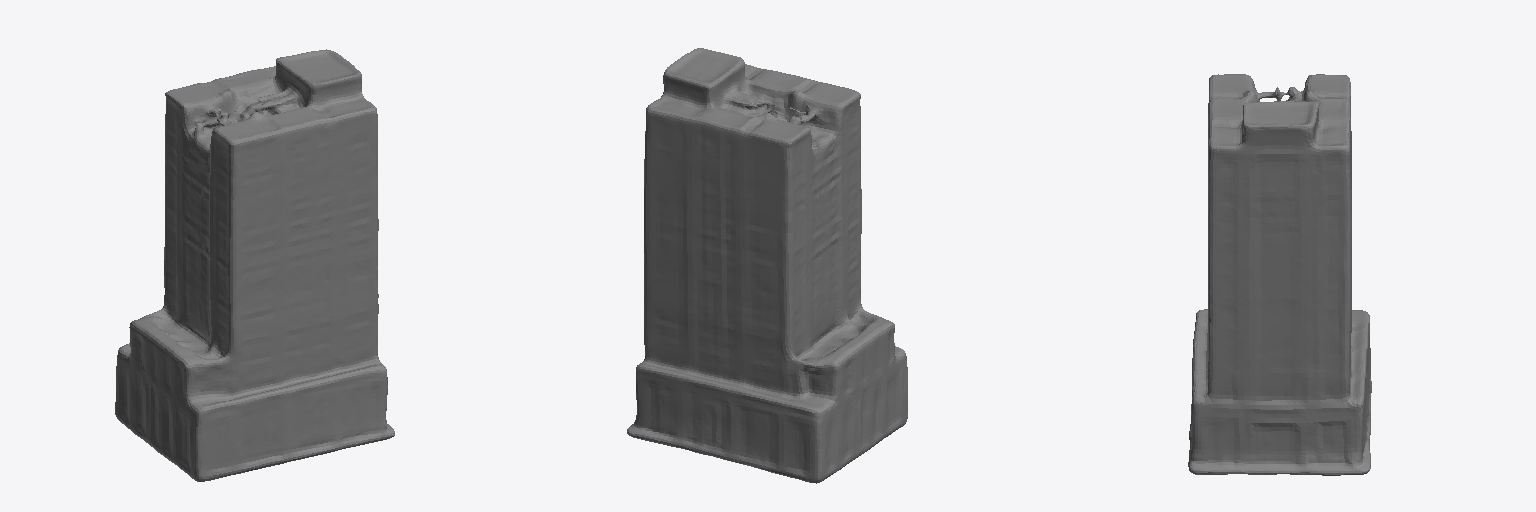
The model's file is edificio2.obj.
3 renders of one model, left to right at view 1: azimuth 30°, elevation 25°; view 2: azimuth 150°, elevation 25°; view 3: azimuth 270°, elevation 25°, orthographic.
Parts seen in each view (by area): view 1: mesh; view 2: mesh; view 3: mesh.
Part boxes in pixels (bbox=[...]): mesh: bbox=[115, 49, 394, 481]; mesh: bbox=[627, 48, 907, 483]; mesh: bbox=[1188, 74, 1371, 475].
Size of the model in its own units: 6 by 9.98 by 4.75.